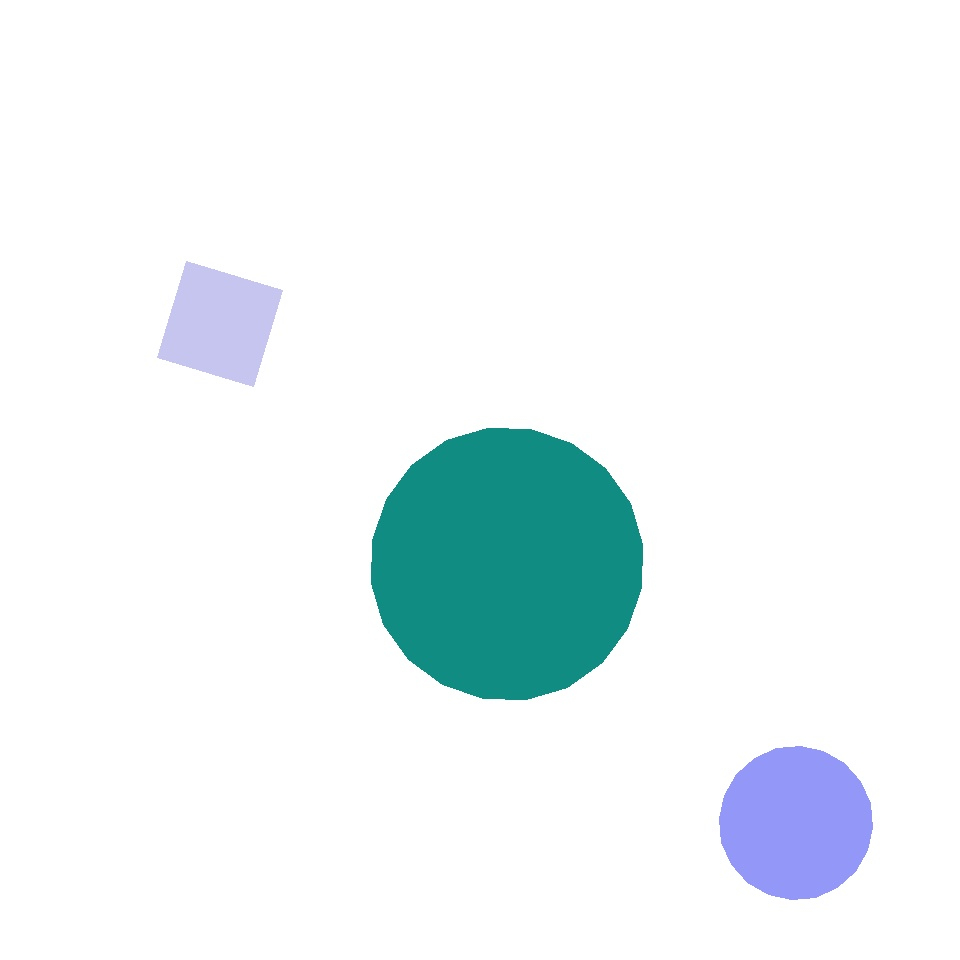circle: (576, 214, 782, 398), (56, 212, 238, 398)
square: (237, 149, 491, 402), (534, 186, 766, 420), (158, 262, 282, 387)
triangle: (372, 429, 642, 700), (720, 746, 873, 900)
